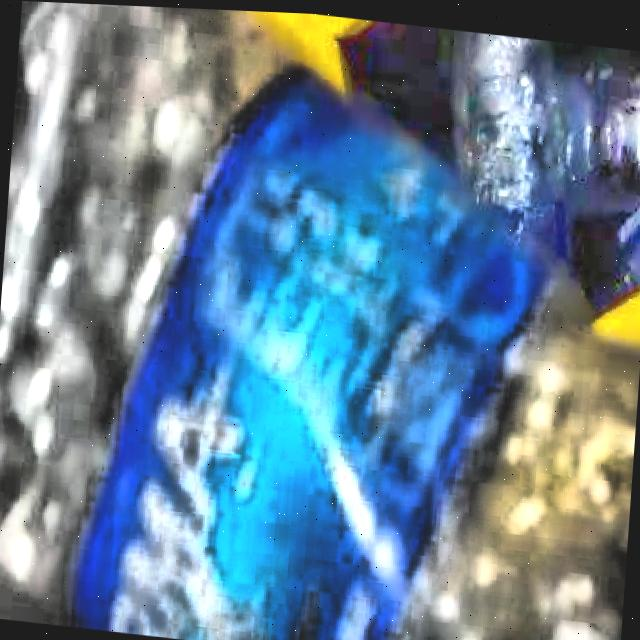plastic: (0, 1, 640, 640)
